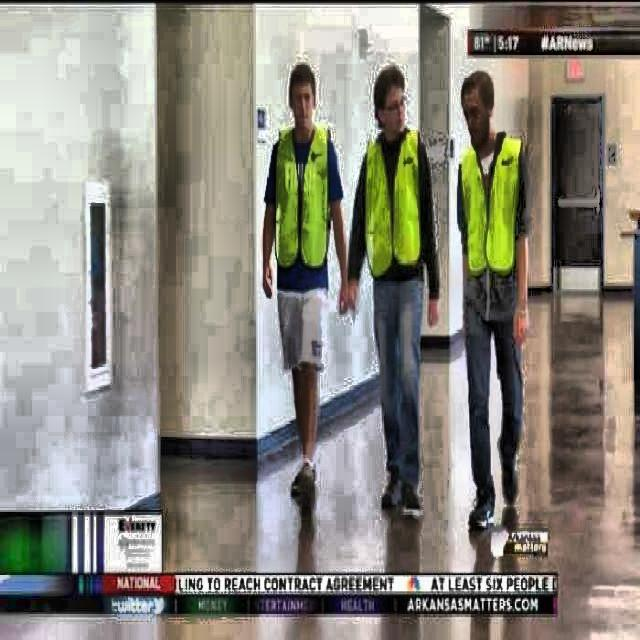safety_jacket: (268, 128, 336, 284), (359, 132, 428, 278), (460, 138, 527, 278)
